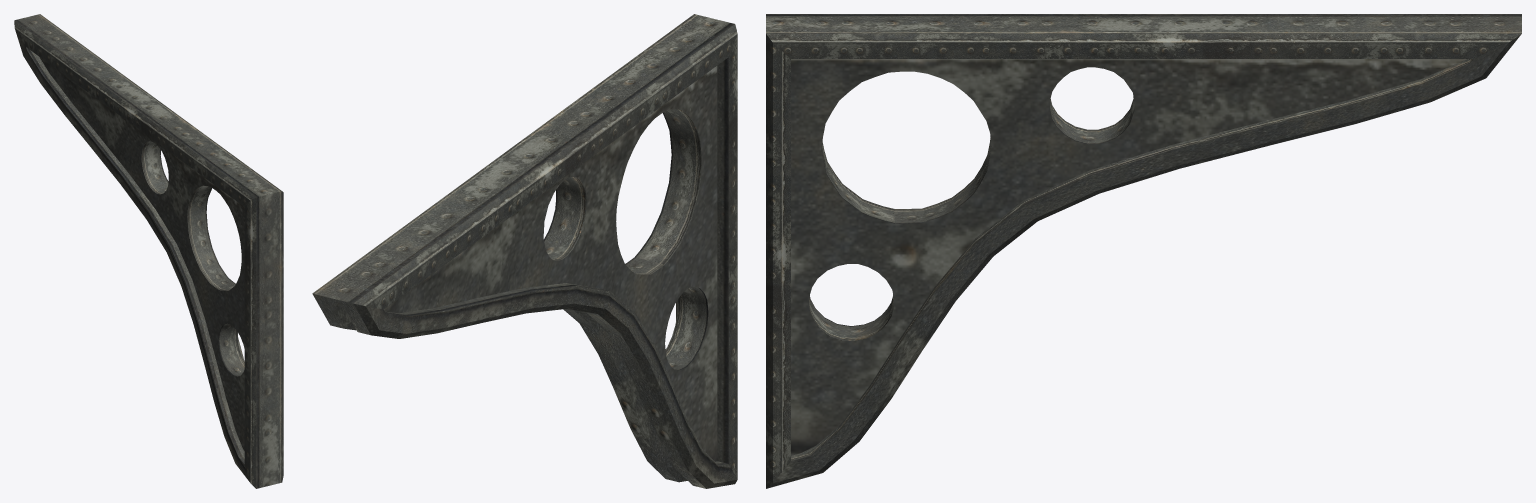
The model's file is Kit_IronColumnBracket.fbx.
The picture shows the model from 3 angles, left to right: view 1: azimuth 30°, elevation 25°; view 2: azimuth 150°, elevation 25°; view 3: azimuth 270°, elevation 25°; orthographic projection. The views are drawn at different scales.
Parts seen in each view (by area): view 1: Kit_IronColumnBracket; view 2: Kit_IronColumnBracket; view 3: Kit_IronColumnBracket.
Boxes of the visible parts, x1,y1,x2,y2 form: Kit_IronColumnBracket: (14,14,283,488); Kit_IronColumnBracket: (312,14,737,488); Kit_IronColumnBracket: (766,14,1521,488).
Bounding box in the file's own units: 8.78 × 73.13 × 110.
